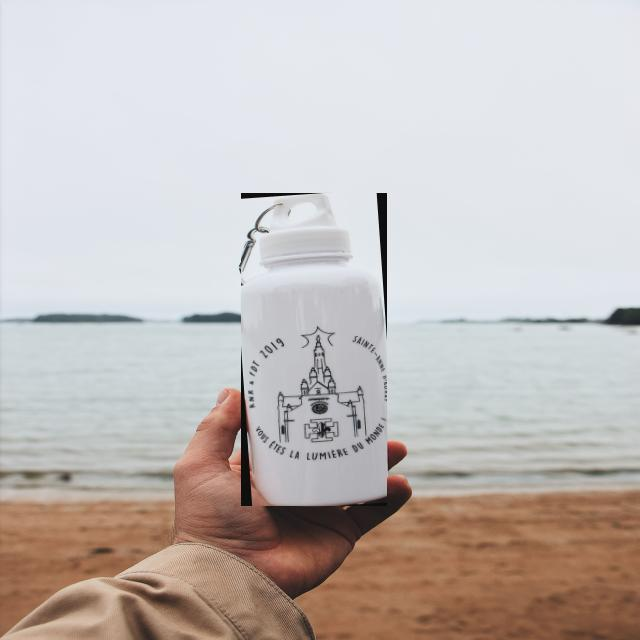Bottle: (242, 194, 387, 505)
